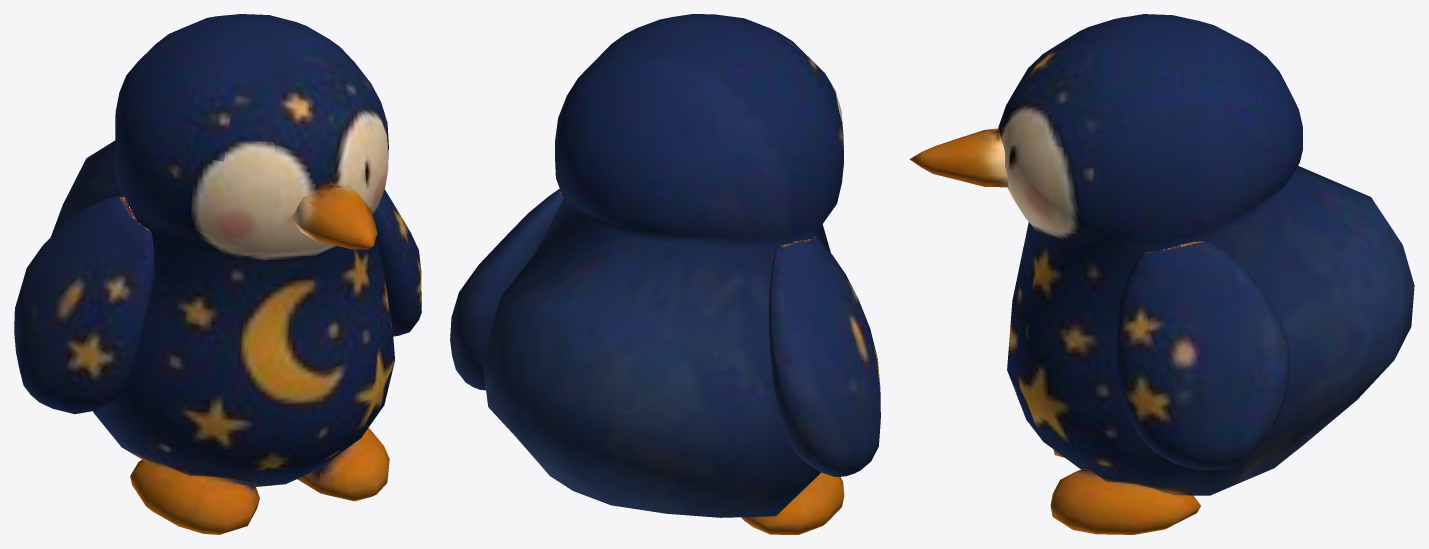
The model's file is penguin-01-22-starry-night.gltf.
3 renders of one model, left to right at view 1: azimuth 30°, elevation 25°; view 2: azimuth 150°, elevation 25°; view 3: azimuth 270°, elevation 25°, orthographic. The views are drawn at different scales.
Visible parts, largest first — view 1: penguin-01-22-starry-night; view 2: penguin-01-22-starry-night; view 3: penguin-01-22-starry-night.
Part boxes in pixels (left/top/right/bottom): penguin-01-22-starry-night: left=14, top=14, right=421, bottom=534; penguin-01-22-starry-night: left=450, top=14, right=880, bottom=534; penguin-01-22-starry-night: left=909, top=14, right=1414, bottom=534.
Size of the model in its own units: 0.2 by 0.2246 by 0.2251.
Materials: 1 (1 with a texture image).
